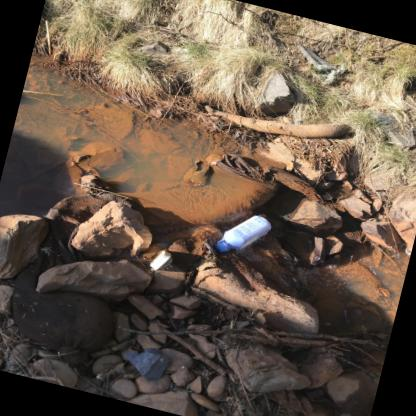Metal: (150, 250, 173, 271), (166, 265, 173, 270)
Plastic: (215, 216, 271, 253), (215, 244, 226, 253)
